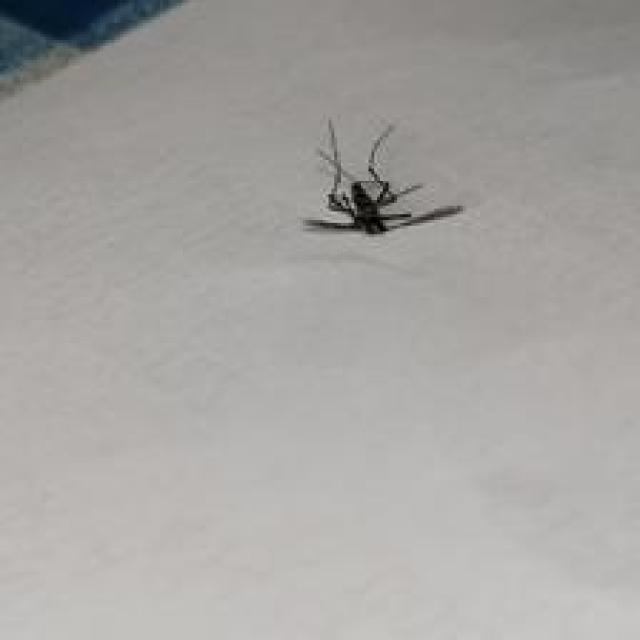Aedes albopictus: (302, 114, 464, 237)
